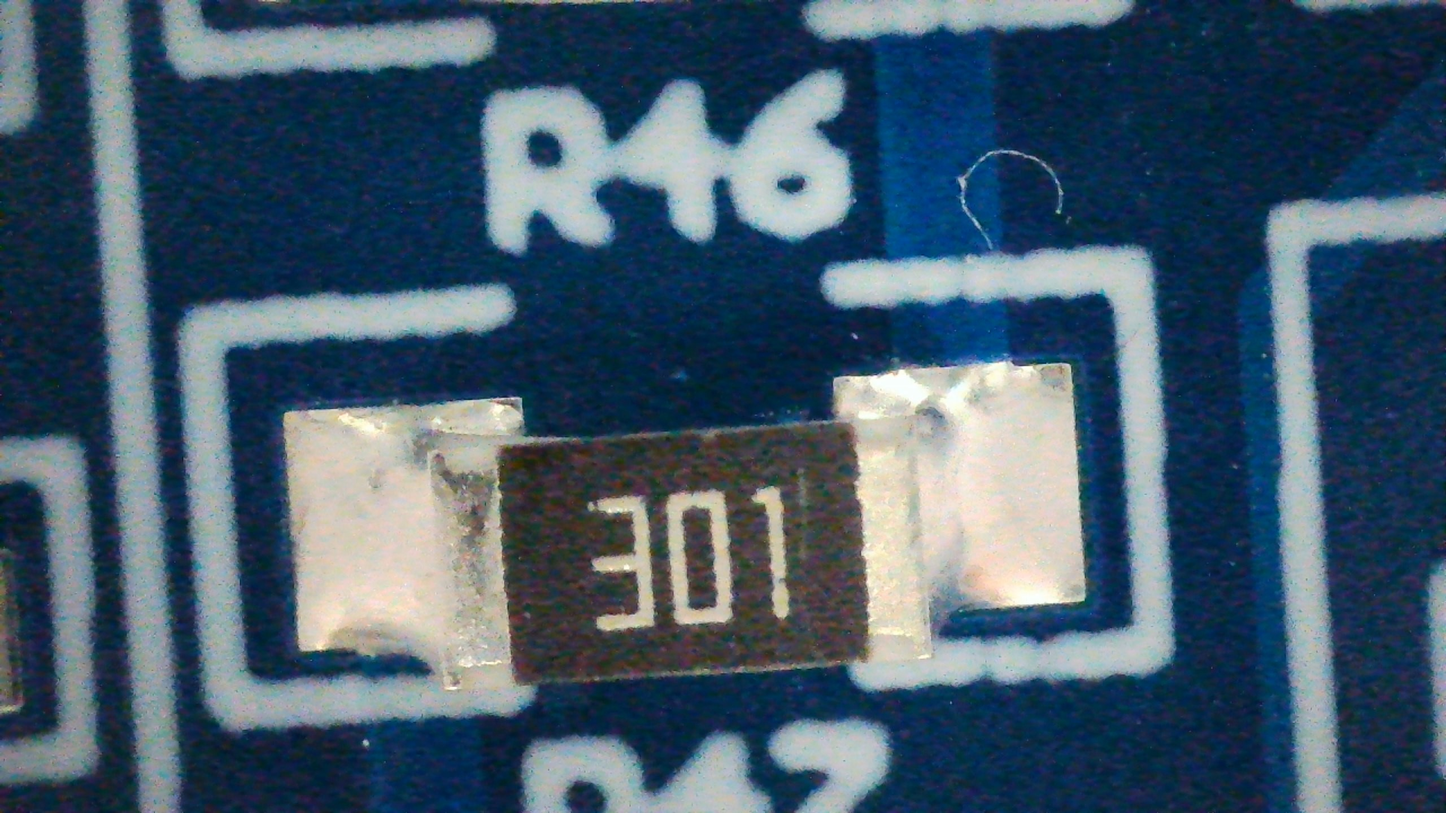NG: (283, 361, 1088, 691)
